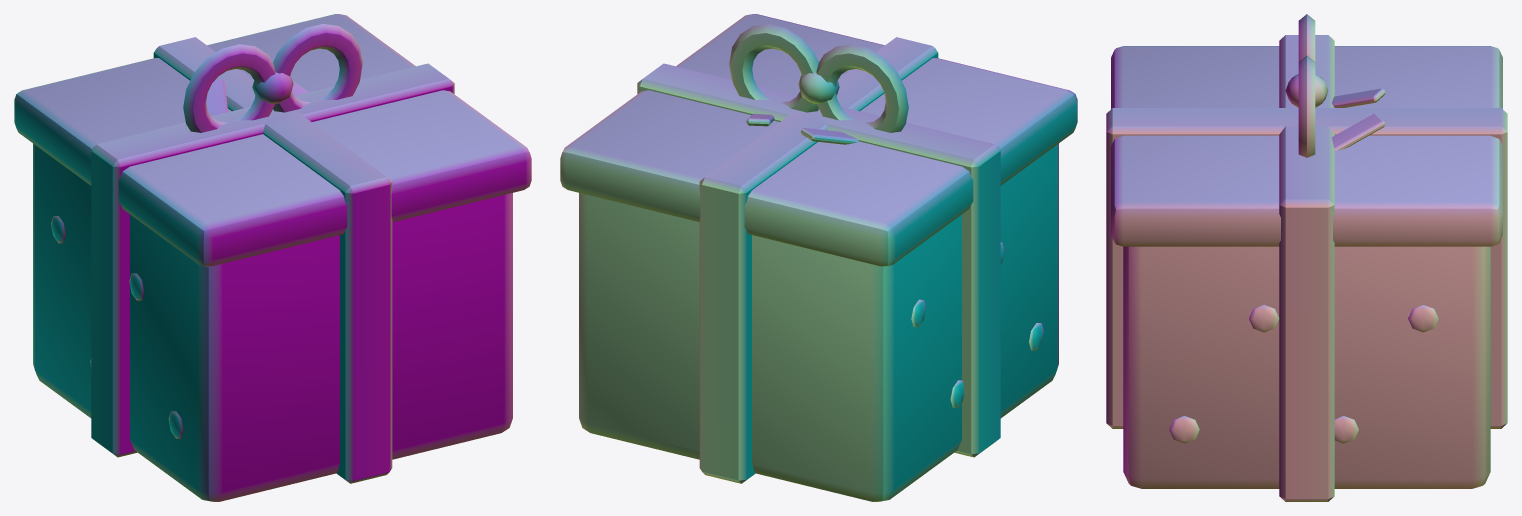
File: prop_gift.glb
The picture shows the model from 3 angles, left to right: view 1: azimuth 30°, elevation 25°; view 2: azimuth 150°, elevation 25°; view 3: azimuth 270°, elevation 25°; orthographic projection.
Visible parts, largest first — view 1: prop_gift_mesh; view 2: prop_gift_mesh; view 3: prop_gift_mesh.
Part boxes in pixels (bbox=[...]): prop_gift_mesh: bbox=[14, 14, 531, 501]; prop_gift_mesh: bbox=[560, 14, 1077, 501]; prop_gift_mesh: bbox=[1106, 14, 1507, 501].
Size of the model in its own units: 0.655 by 0.6831 by 0.655.
